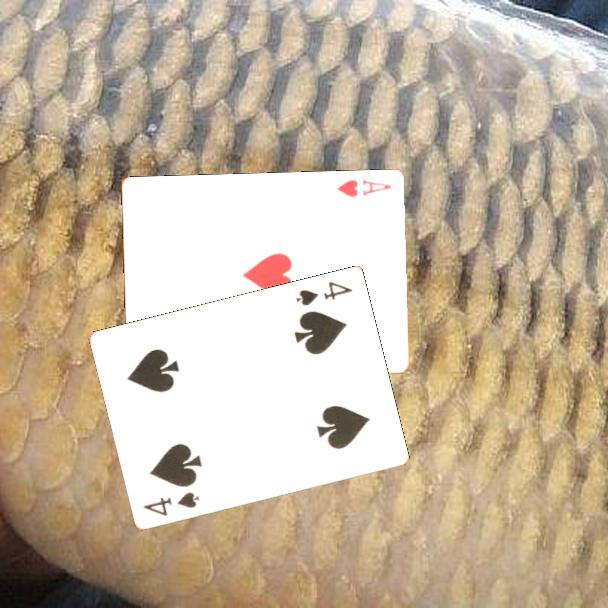h01: (333, 176, 394, 200)
s04: (292, 278, 355, 309), (139, 489, 202, 519)
